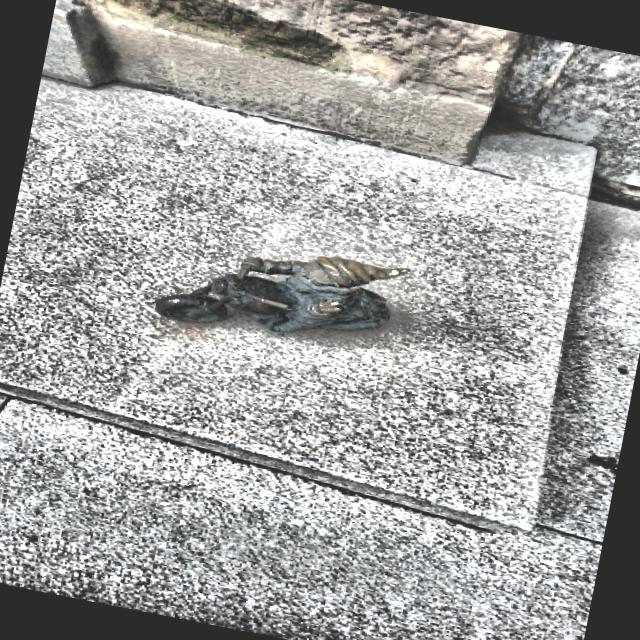Wentyl: (156, 257, 409, 334)
